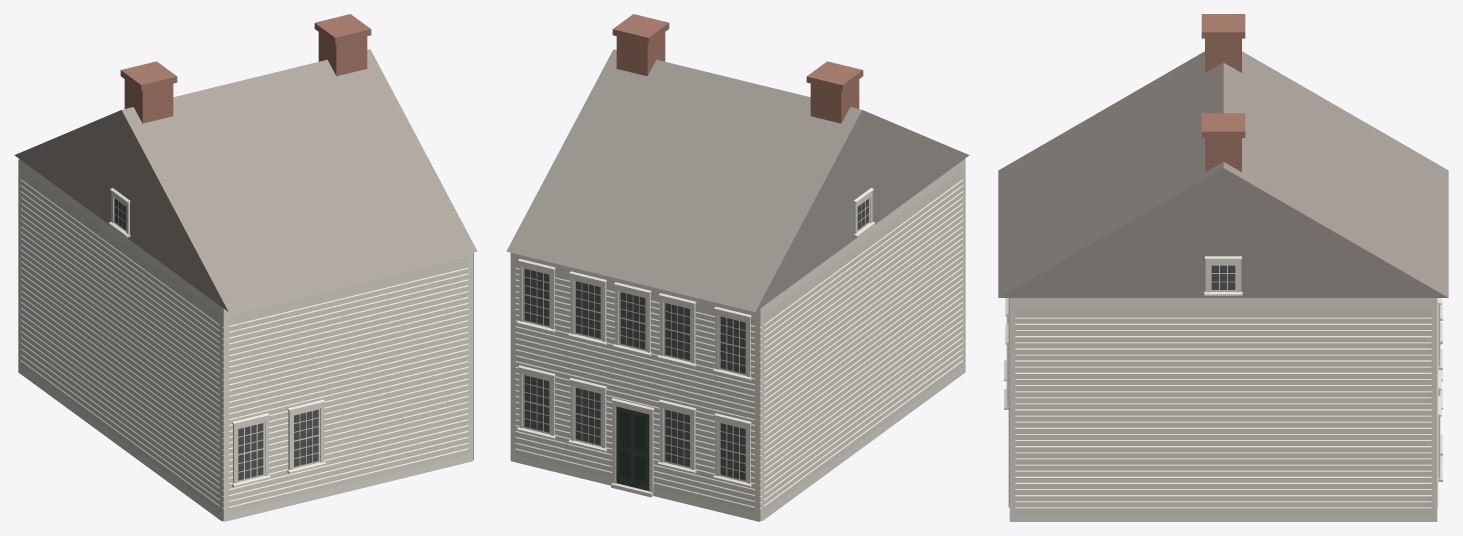
The model's file is recon_1835_blk_washington_lasalle_d7_04__inferred_1835.glb.
The picture shows the model from 3 angles, left to right: view 1: azimuth 30°, elevation 25°; view 2: azimuth 150°, elevation 25°; view 3: azimuth 270°, elevation 25°; orthographic projection. The views are drawn at different scales.
Parts seen in each view (by area): view 1: recon_1835_blk_washington_lasalle_d7_04__inferred_1835; view 2: recon_1835_blk_washington_lasalle_d7_04__inferred_1835; view 3: recon_1835_blk_washington_lasalle_d7_04__inferred_1835.
Part boxes in pixels (left/top/right/bottom): recon_1835_blk_washington_lasalle_d7_04__inferred_1835: left=14, top=14, right=477, bottom=521; recon_1835_blk_washington_lasalle_d7_04__inferred_1835: left=506, top=14, right=969, bottom=521; recon_1835_blk_washington_lasalle_d7_04__inferred_1835: left=998, top=14, right=1448, bottom=521.
Bounding box in the file's own units: 7 × 9.57 × 10.14.
